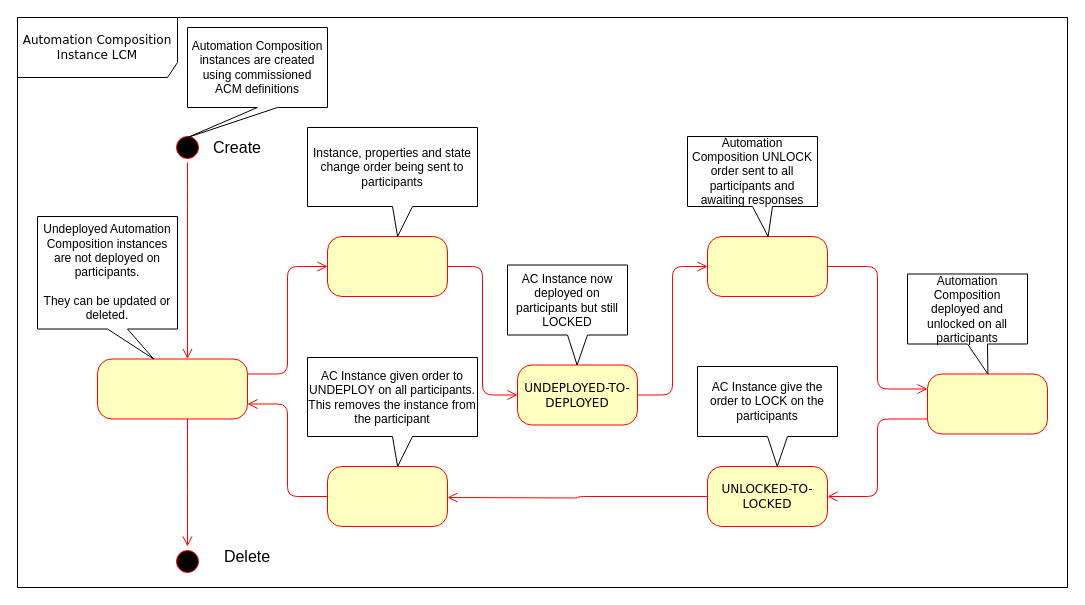
Some shapes in this 1085 by 605 pixel diagram are drawn without their labels. Here are the shapes that lost their labels. From the top down, the centre of each, then its label:
the point at 387,266: ORDER TO DEPLOY & UNLOCK
the point at 767,266: LOCKED-TO-UNLOCKED
the point at 172,388: UNDEPLOYED/LOCKED
the point at 987,403: DEPLOYED/ UNLOCKED
the point at 387,496: DEPLOYED-TO-UNDEPLOYED
